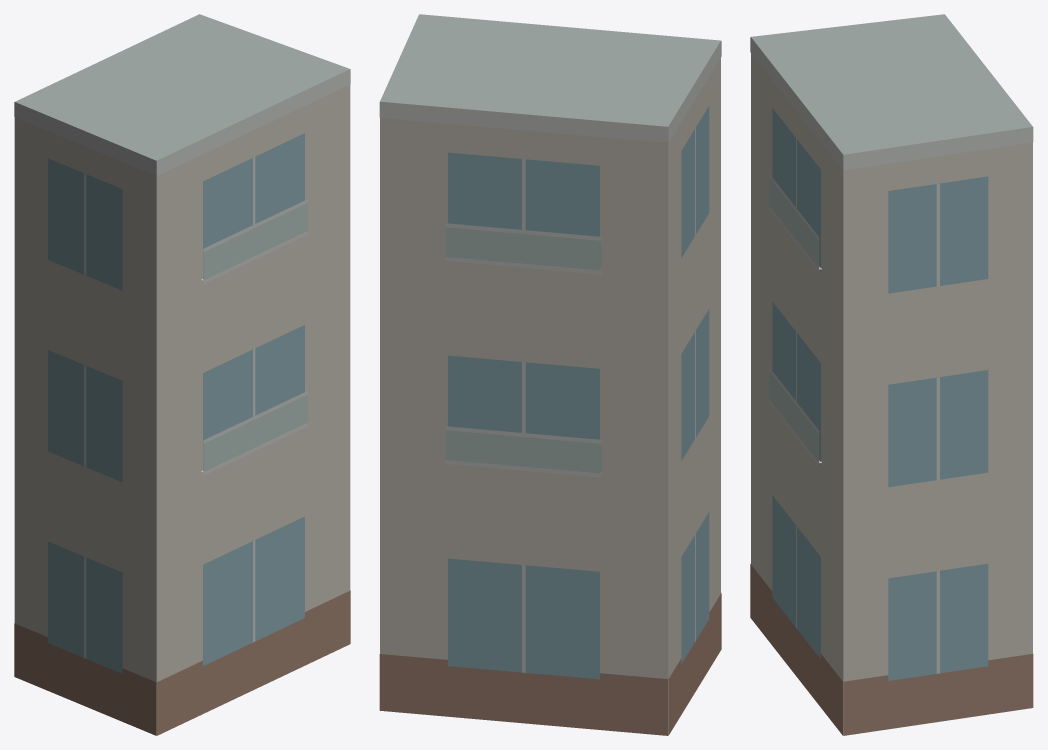
File: survey-upis-32576079.glb
The picture shows the model from 3 angles, left to right: view 1: azimuth 30°, elevation 25°; view 2: azimuth 150°, elevation 25°; view 3: azimuth 270°, elevation 25°; orthographic projection. The views are drawn at different scales.
Parts seen in each view (by area): view 1: survey-upis-32576079.tmp; view 2: survey-upis-32576079.tmp; view 3: survey-upis-32576079.tmp.
Boxes of the visible parts, x1,y1,x2,y2 form: survey-upis-32576079.tmp: (14, 14, 350, 735); survey-upis-32576079.tmp: (379, 14, 721, 735); survey-upis-32576079.tmp: (750, 14, 1033, 735).
Bounding box in the file's own units: 4.76 × 9.15 × 4.04.
